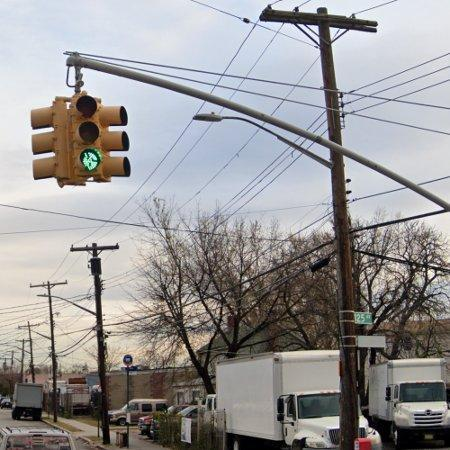traffic lights: (31, 95, 69, 185), (69, 90, 104, 184)
